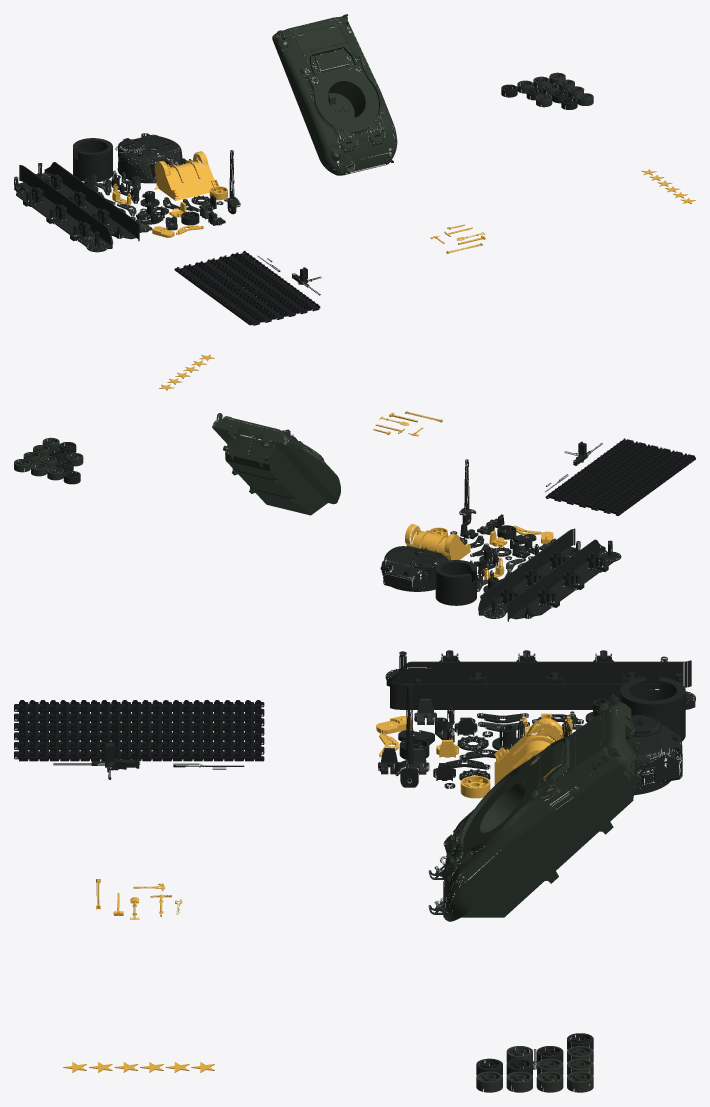
The model's file is sherman_print_plate.glb.
The picture shows the model from 3 angles, top to bottom: view 1: azimuth 30°, elevation 25°; view 2: azimuth 150°, elevation 25°; view 3: azimuth 270°, elevation 25°; orthographic projection. The views are drawn at different scales.
Parts seen in each view (by area): view 1: Sherman_hull, Sherman_turret, Sherman_tracks, Sherman_accent, Sherman_wheels; view 2: Sherman_hull, Sherman_turret, Sherman_tracks, Sherman_accent, Sherman_wheels; view 3: Sherman_hull, Sherman_turret, Sherman_tracks, Sherman_accent, Sherman_wheels.
Boxes of the visible parts, bbox=[...] form: Sherman_hull: bbox=[14, 84, 577, 295]; Sherman_turret: bbox=[272, 14, 397, 175]; Sherman_tracks: bbox=[174, 250, 320, 325]; Sherman_accent: bbox=[112, 151, 695, 253]; Sherman_wheels: bbox=[92, 72, 593, 232]; Sherman_hull: bbox=[49, 441, 621, 621]; Sherman_turret: bbox=[212, 413, 340, 515]; Sherman_tracks: bbox=[545, 438, 695, 515]; Sherman_accent: bbox=[159, 354, 553, 579]; Sherman_wheels: bbox=[14, 437, 555, 591]; Sherman_hull: bbox=[53, 650, 695, 1077]; Sherman_turret: bbox=[428, 694, 641, 921]; Sherman_tracks: bbox=[14, 700, 264, 761]; Sherman_accent: bbox=[63, 713, 572, 1072]; Sherman_wheels: bbox=[406, 698, 618, 1092].
Size of the model in its own units: 3.8 by 0.7506 by 2.58.
